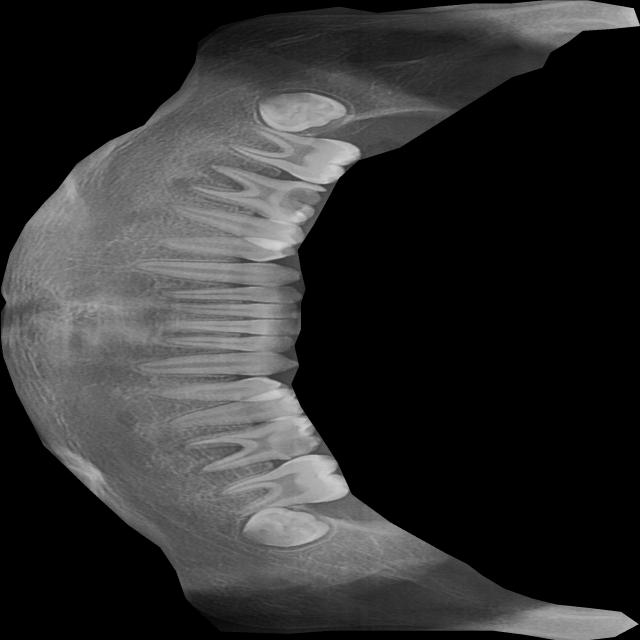mandibula: (0, 0, 639, 640)
